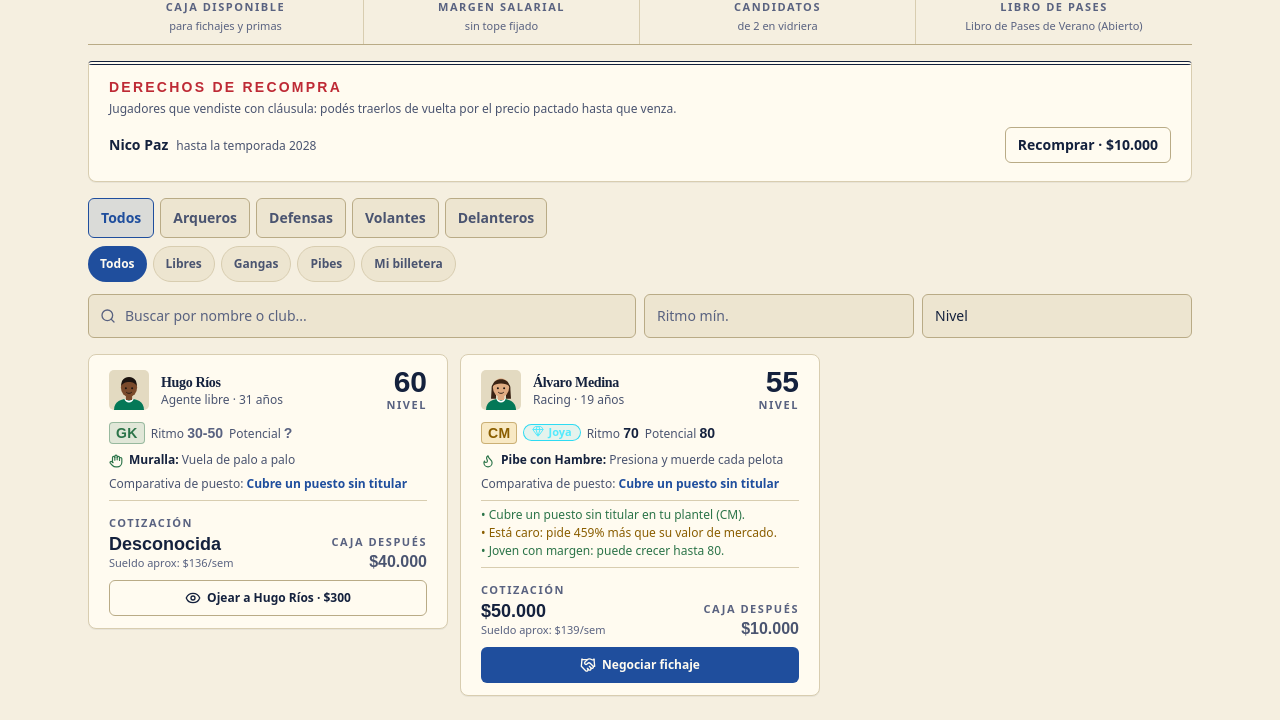
Scenario: pantalla Mercado › ofertar abre el panel, valida el monto junto al campo y compra
(page scrolled)
Click the button with aria-label "Ofertar por Álvaro Medina" at (640, 664), box x1=481 y1=646 x2=799 y2=682
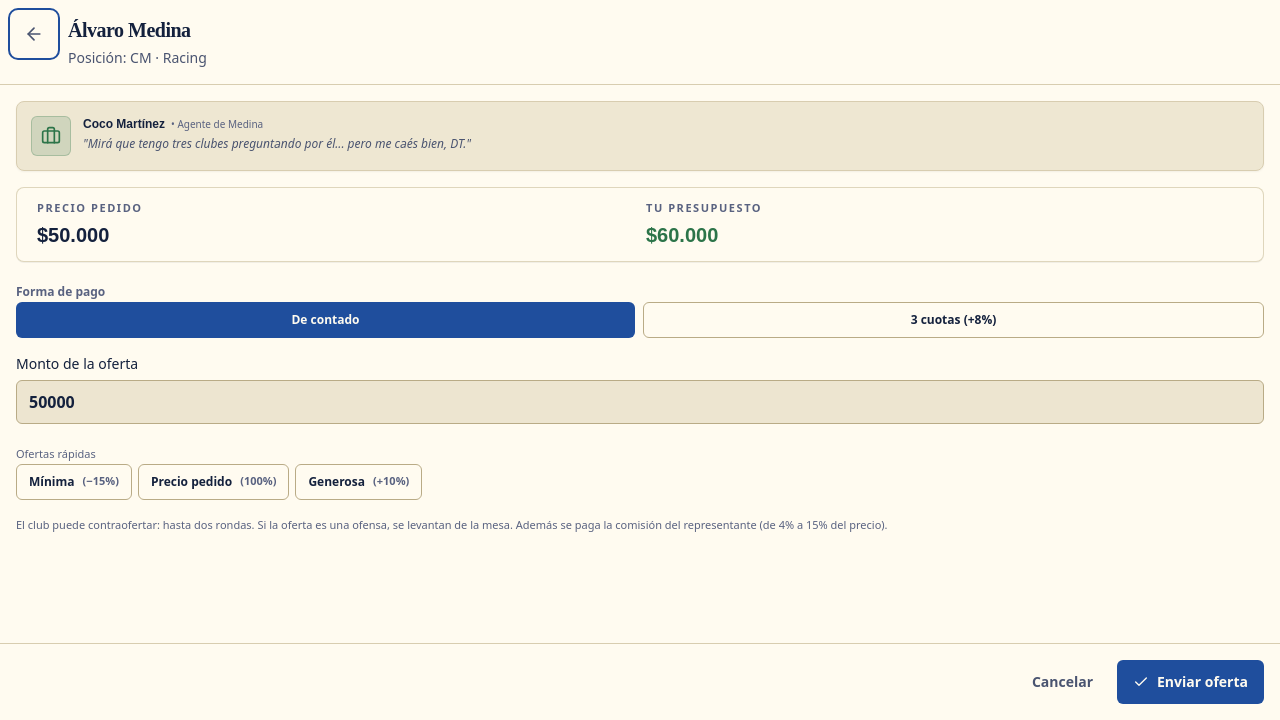
Replace the text in the number field labelled "Monto de la oferta" with "999999" at (640, 402), box x1=16 y1=380 x2=1264 y2=424
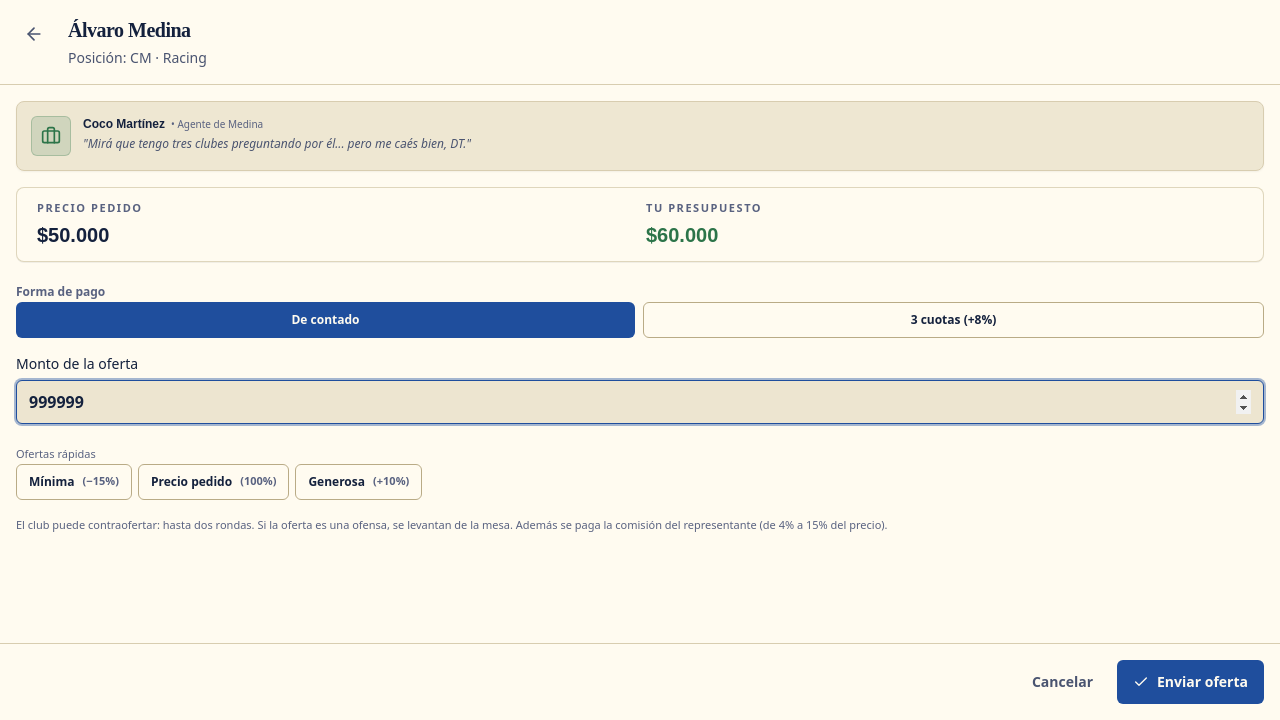
Click the button "Enviar oferta" at (1190, 682), box x1=1117 y1=660 x2=1264 y2=704
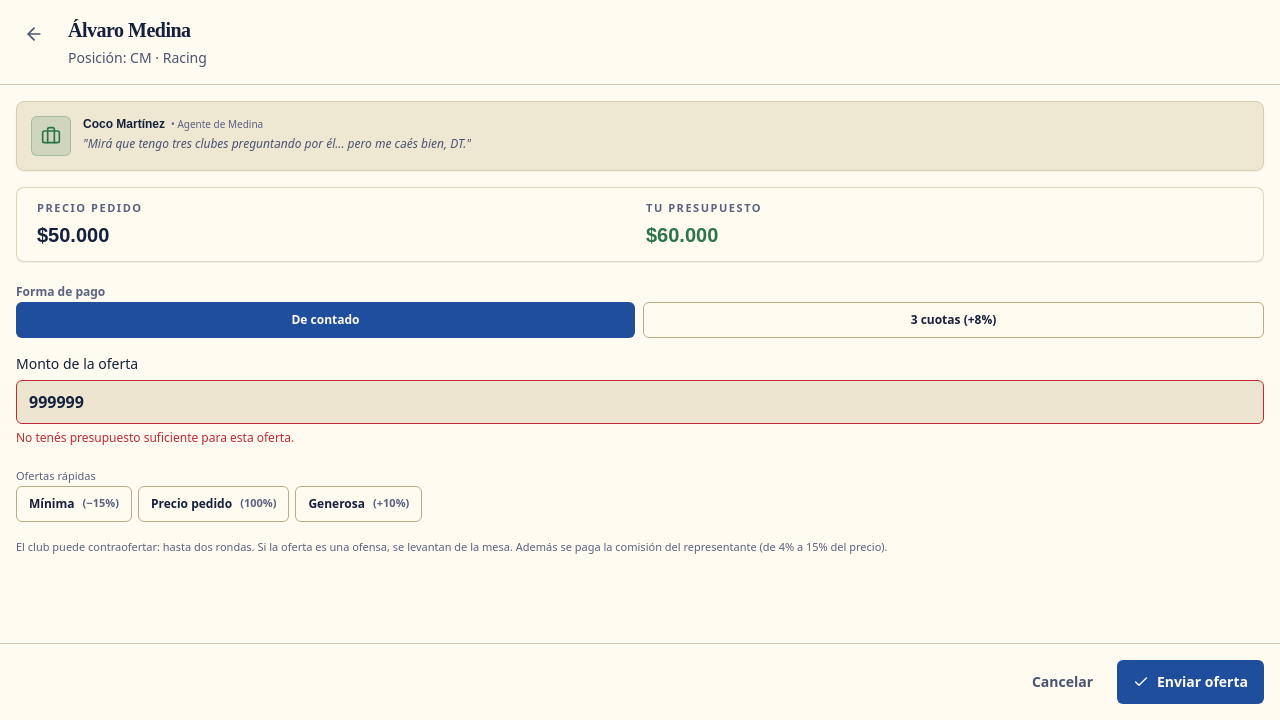
Now the message shows "presupuesto suficiente", box x1=16 y1=428 x2=294 y2=446
Click the button "Mínima (−15%)" at (74, 504), box x1=16 y1=486 x2=132 y2=522
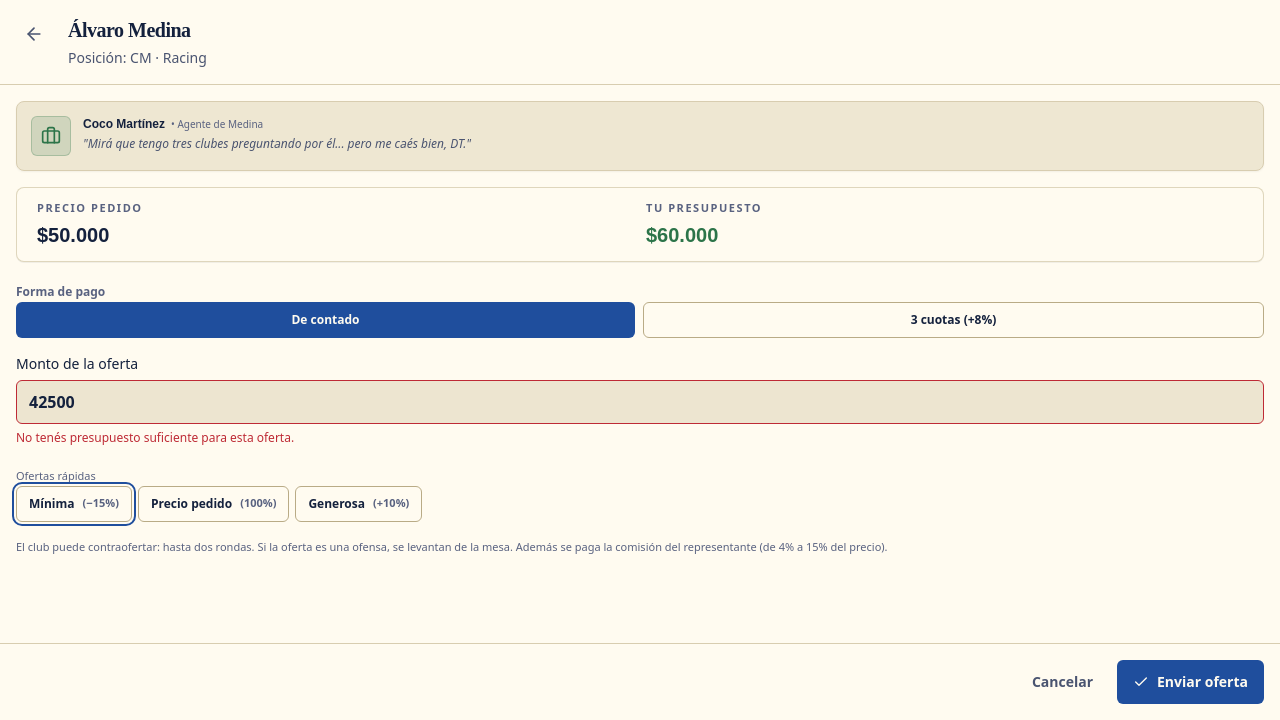
Click the button "Enviar oferta" at (1190, 682), box x1=1117 y1=660 x2=1264 y2=704
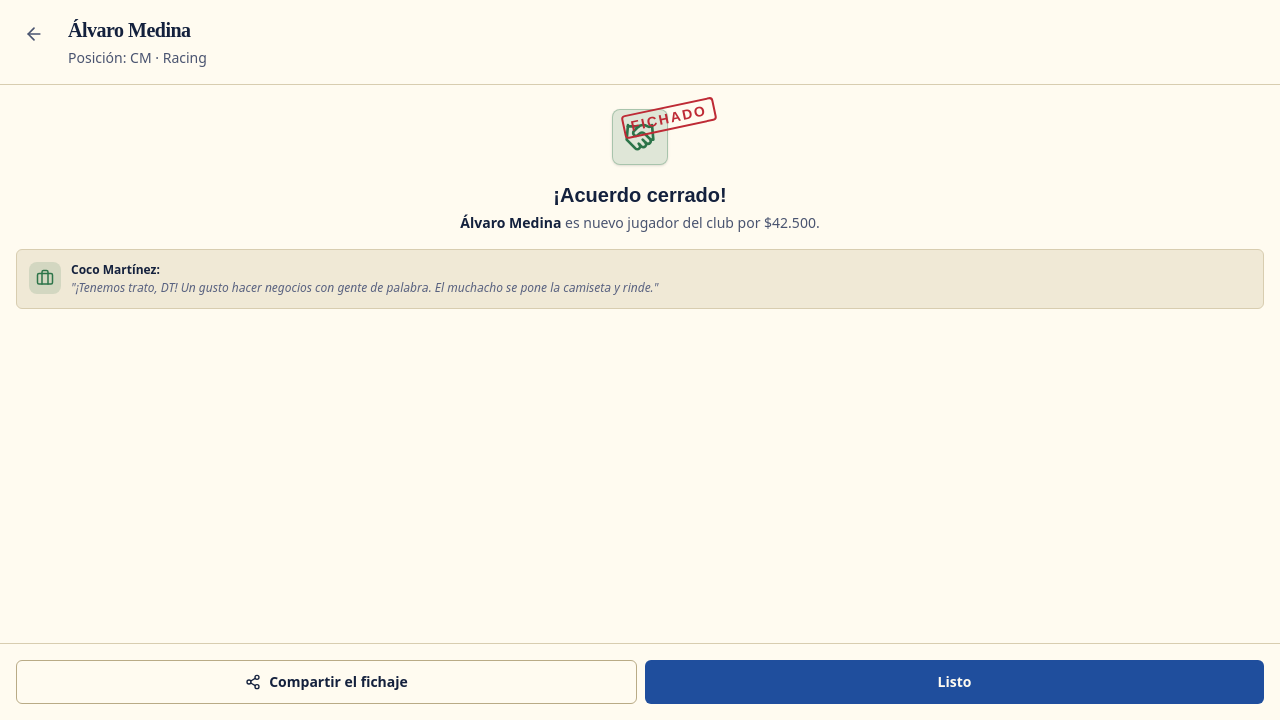
Now the text "¡Acuerdo cerrado!" is shown, box x1=553 y1=184 x2=727 y2=206
